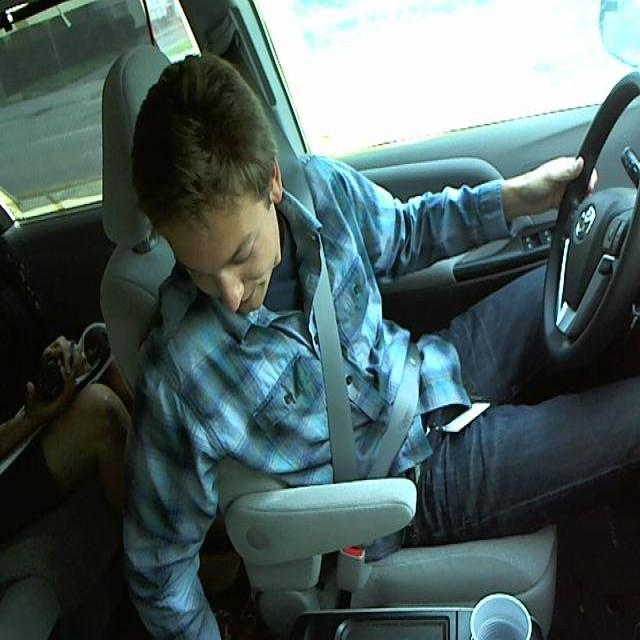seatbelt: (303, 228, 424, 476)
